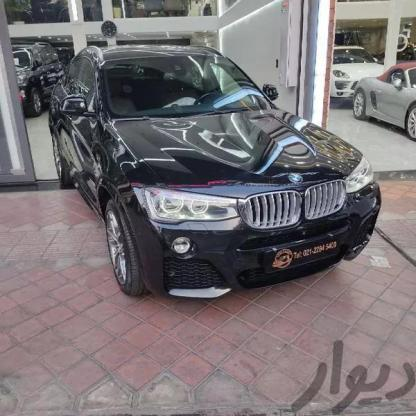Car: (49, 40, 375, 319), (354, 51, 416, 156), (0, 40, 70, 126), (321, 38, 375, 99)
